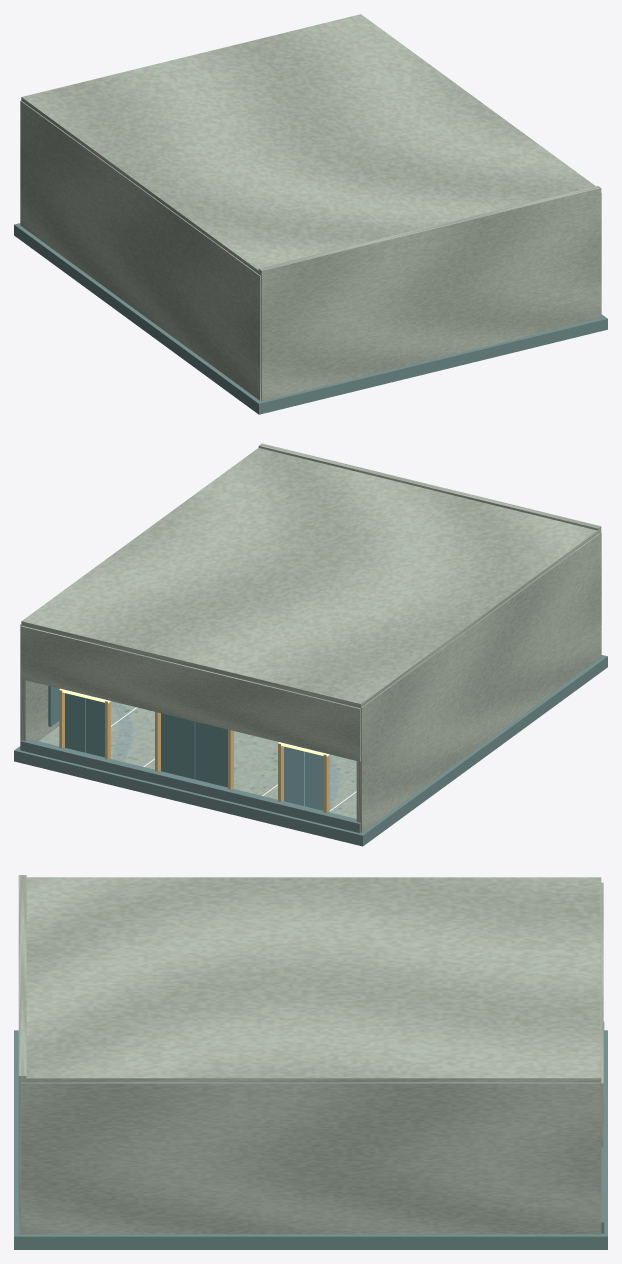
Rendered from warehouse-shell.glb.
The picture shows the model from 3 angles, top to bottom: view 1: azimuth 30°, elevation 25°; view 2: azimuth 150°, elevation 25°; view 3: azimuth 270°, elevation 25°; orthographic projection. The views are drawn at different scales.
Parts seen in each view (by area): view 1: shell.ceiling.solid, shell.front.wall, shell.wall.side.-1, shell.foundation; view 2: shell.ceiling.solid, shell.wall.side.-1, shell.rear.bulkhead, shell.foundation, shell.floor.terrazzo, shell.rear.base, door.main.right, shell.front.wall, door.main.left, shell.wall.side.1, door.subroom.cold.right, door.subroom.packing.right (+2 smaller); view 3: shell.ceiling.solid, shell.wall.side.1, shell.foundation, shell.front.wall, shell.rear.bulkhead, shell.rear.base.
Part boxes in pixels (left/top/right/bottom): shell.ceiling.solid: left=21, top=14, right=595, bottom=275; shell.front.wall: left=258, top=186, right=601, bottom=400; shell.wall.side.-1: left=20, top=100, right=260, bottom=400; shell.foundation: left=14, top=223, right=607, bottom=414; shell.ceiling.solid: left=21, top=448, right=600, bottom=708; shell.wall.side.-1: left=356, top=532, right=601, bottom=832; shell.rear.bulkhead: left=20, top=625, right=360, bottom=761; shell.foundation: left=14, top=655, right=607, bottom=846; shell.floor.terrazzo: left=39, top=701, right=356, bottom=818; shell.rear.base: left=20, top=739, right=360, bottom=833; door.main.right: left=161, top=713, right=195, bottom=779; shell.front.wall: left=258, top=443, right=601, bottom=531; door.main.left: left=195, top=721, right=227, bottom=787; shell.wall.side.1: left=20, top=624, right=59, bottom=741; door.subroom.cold.right: left=284, top=746, right=304, bottom=805; door.subroom.packing.right: left=65, top=693, right=85, bottom=752; shell.ceiling.solid: left=20, top=877, right=601, bottom=1082; shell.wall.side.1: left=20, top=1082, right=601, bottom=1234; shell.foundation: left=14, top=1030, right=607, bottom=1249; shell.front.wall: left=18, top=875, right=26, bottom=1233; shell.rear.bulkhead: left=601, top=882, right=603, bottom=1147; shell.rear.base: left=601, top=1022, right=604, bottom=1233.
Bounding box in the file's own units: 18.5 × 7.15 × 22.5.
Materials: 9 (2 with a texture image).
